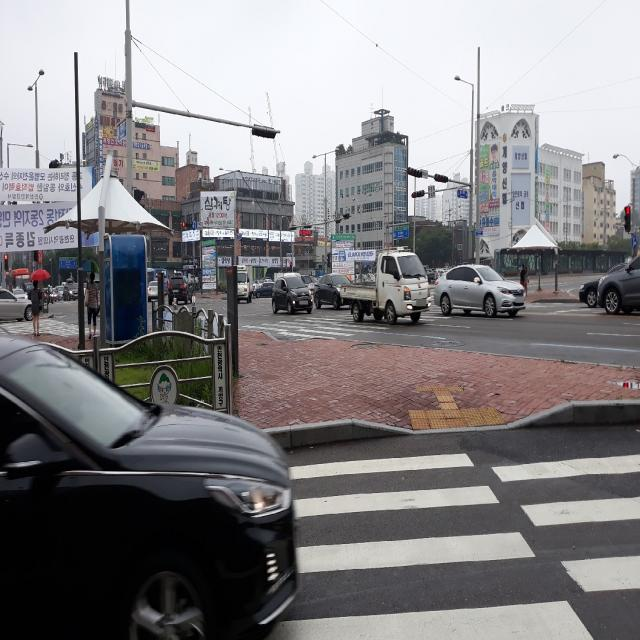빨간불: (624, 206, 632, 229)
횡단보도: (263, 451, 640, 640), (254, 315, 385, 338)
